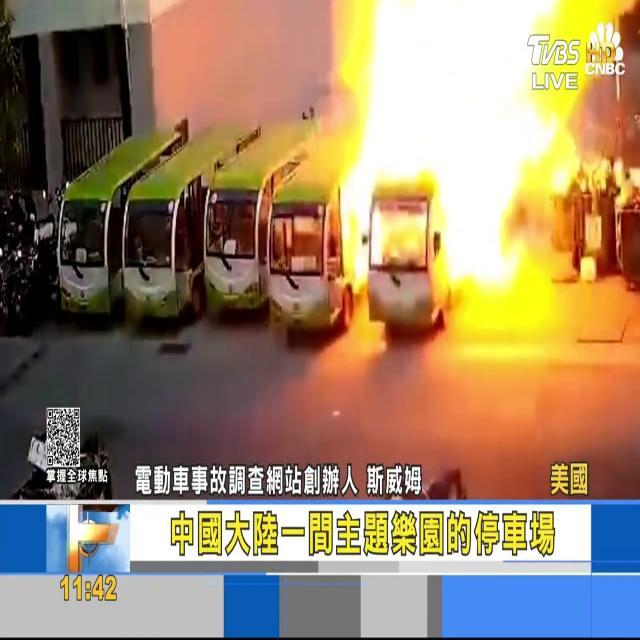Fire: (322, 0, 576, 316)
